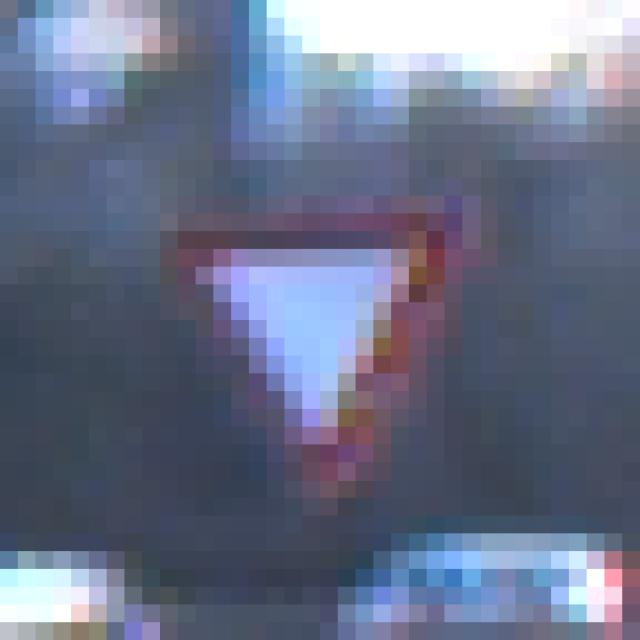Give Way: (108, 108, 552, 552)
